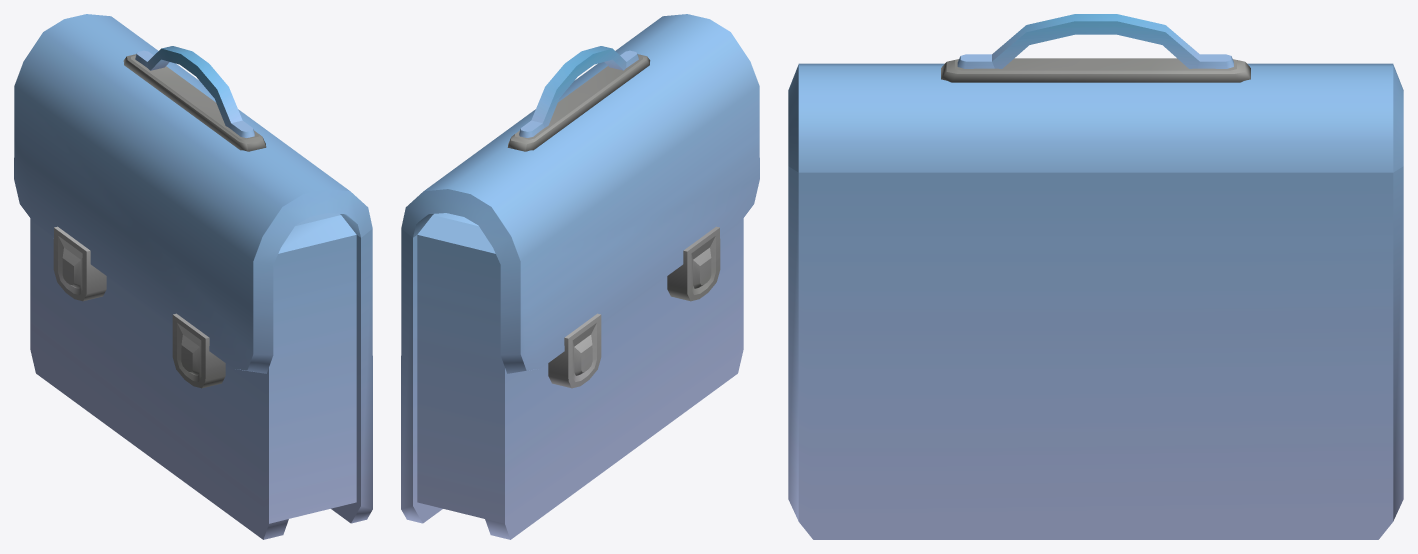
Rendered from Suitcase_1_1_K.fbx.
The picture shows the model from 3 angles, left to right: view 1: azimuth 30°, elevation 25°; view 2: azimuth 150°, elevation 25°; view 3: azimuth 270°, elevation 25°; orthographic projection. The views are drawn at different scales.
Visible parts, largest first — view 1: Suitcase_1_1_K; view 2: Suitcase_1_1_K; view 3: Suitcase_1_1_K.
Part boxes in pixels (x1,y1,x2,y2): Suitcase_1_1_K: (14,14,372,539); Suitcase_1_1_K: (401,14,759,539); Suitcase_1_1_K: (788,14,1403,539).
Bounding box in the file's own units: 16.04 × 47.79 × 54.73.
